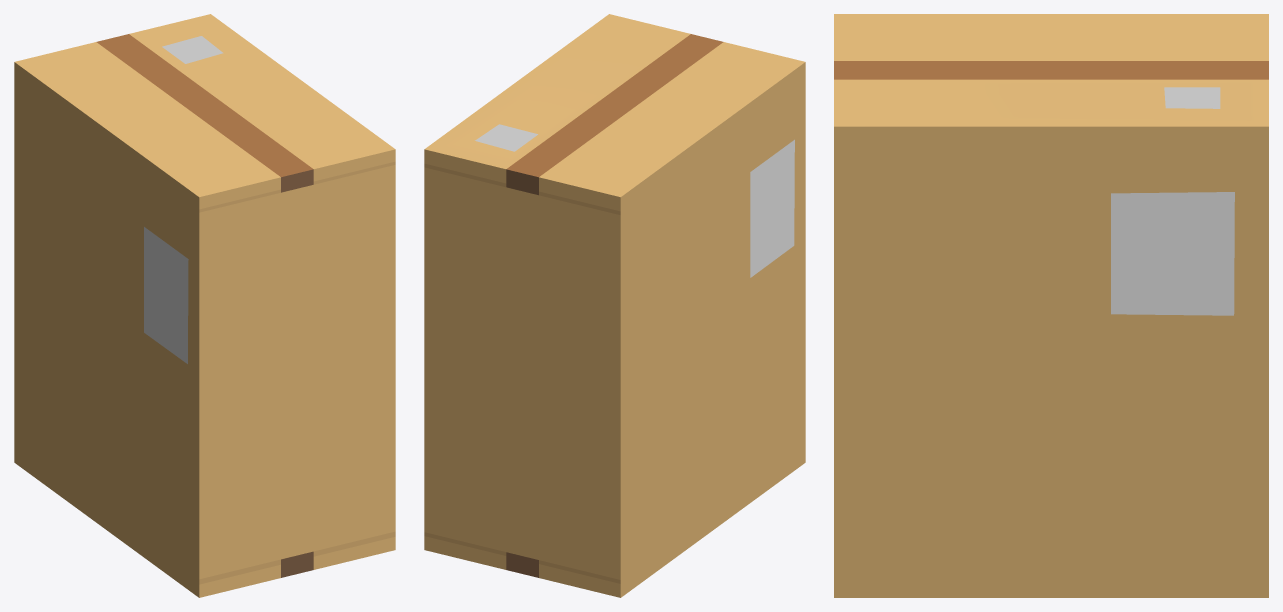
The model's file is Cs_Lrg_Brn.fbx.
3 renders of one model, left to right at view 1: azimuth 30°, elevation 25°; view 2: azimuth 150°, elevation 25°; view 3: azimuth 270°, elevation 25°, orthographic. The views are drawn at different scales.
Parts seen in each view (by area): view 1: Cs_Lrg_Brn; view 2: Cs_Lrg_Brn; view 3: Cs_Lrg_Brn.
Boxes of the visible parts, x1,y1,x2,y2 form: Cs_Lrg_Brn: (14, 14, 395, 597); Cs_Lrg_Brn: (424, 14, 805, 597); Cs_Lrg_Brn: (834, 14, 1268, 597).
Size of the model in its own units: 0.3268 by 0.5329 by 0.6382.
